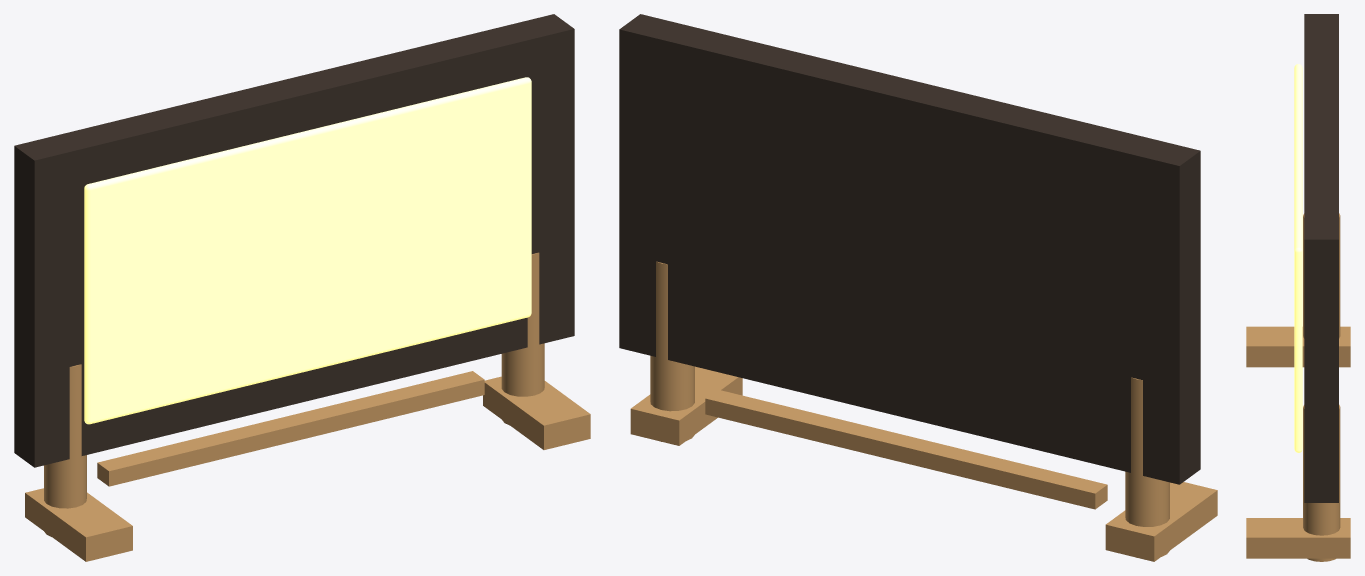
3 views of the same model, side by side, from view 1: azimuth 30°, elevation 25°; view 2: azimuth 150°, elevation 25°; view 3: azimuth 270°, elevation 25° (orthographic). The views are drawn at different scales.
Parts seen in each view (by area): view 1: screen-surface, ribbon-bezel, cable-bridge, bridge-left, bridge-right, pylon-left, pylon-right; view 2: ribbon-bezel, cable-bridge, bridge-left, bridge-right, pylon-right, pylon-left; view 3: ribbon-bezel, bridge-right, screen-surface, bridge-left, pylon-right, pylon-left.
Part boxes in pixels (x1,y1,x2,y2): screen-surface: (84, 77, 531, 424); ribbon-bezel: (14, 14, 574, 467); cable-bridge: (97, 371, 484, 486); bridge-left: (25, 488, 132, 561); bridge-right: (483, 376, 590, 449); pylon-left: (44, 364, 86, 536); pylon-right: (501, 252, 544, 425); ribbon-bezel: (619, 14, 1200, 484); cable-bridge: (705, 389, 1107, 509); bridge-left: (1105, 482, 1217, 561); bridge-right: (630, 366, 742, 445); pylon-right: (650, 261, 694, 441); pylon-left: (1125, 377, 1169, 556); ribbon-bezel: (1304, 14, 1338, 502); bridge-right: (1246, 518, 1350, 558); screen-surface: (1294, 64, 1302, 452); bridge-left: (1246, 326, 1350, 367); pylon-right: (1303, 404, 1340, 561); pylon-left: (1303, 213, 1340, 338).
Bounding box in the file's own units: 0.92 × 0.63 × 0.18.
